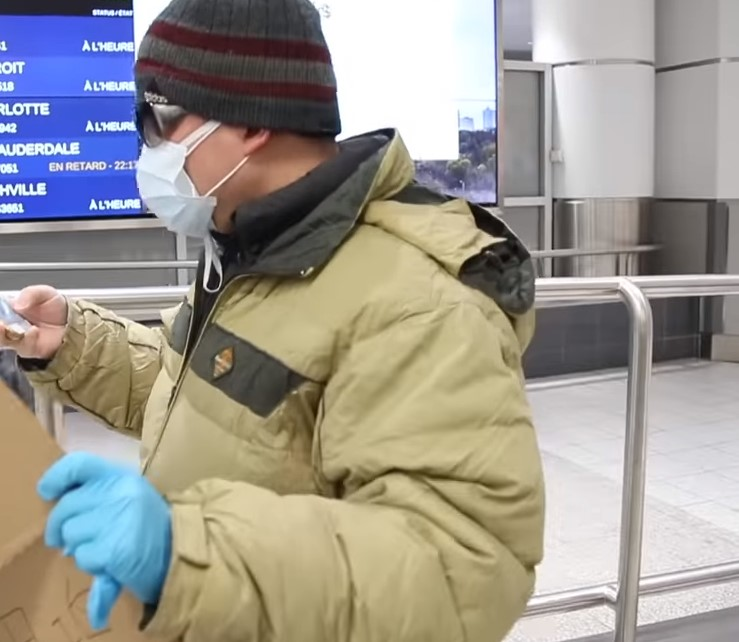face_with_mask: (129, 0, 345, 243)
